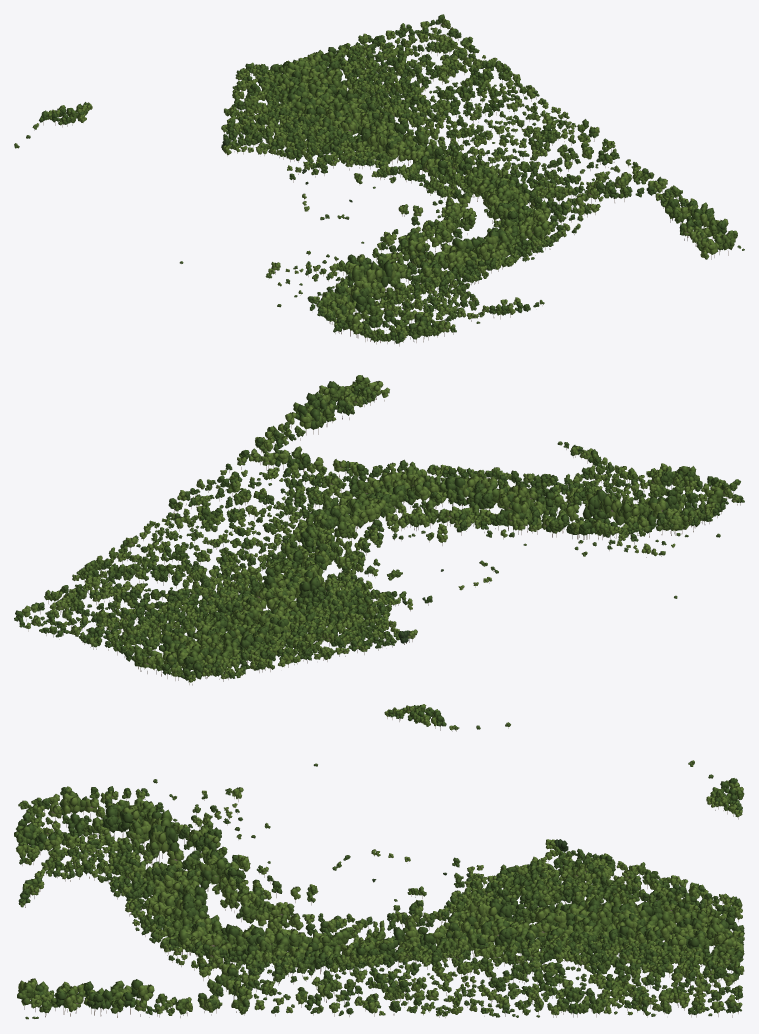
The model's file is arbres.glb.
The picture shows the model from 3 angles, top to bottom: view 1: azimuth 30°, elevation 25°; view 2: azimuth 150°, elevation 25°; view 3: azimuth 270°, elevation 25°; orthographic projection. The views are drawn at different scales.
Size of the model in its own units: 548 by 41.75 by 662.
